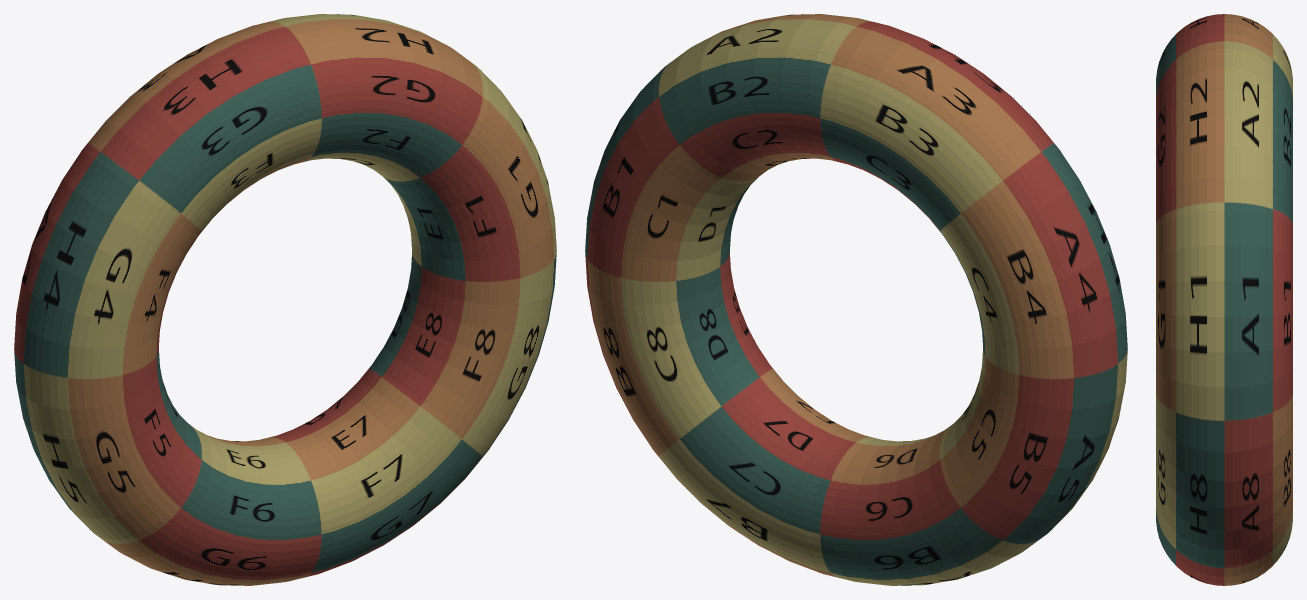
The model's file is texture_torus_R25_r24.glb.
The picture shows the model from 3 angles, left to right: view 1: azimuth 30°, elevation 25°; view 2: azimuth 150°, elevation 25°; view 3: azimuth 270°, elevation 25°; orthographic projection. The views are drawn at different scales.
Visible parts, largest first — view 1: world; view 2: world; view 3: world.
Part boxes in pixels (bbox=[...]): world: bbox=[14, 14, 556, 585]; world: bbox=[585, 14, 1127, 585]; world: bbox=[1156, 14, 1292, 585].
Size of the model in its own units: 35.07 by 35 by 8.38.
1 material, 1 textured.
